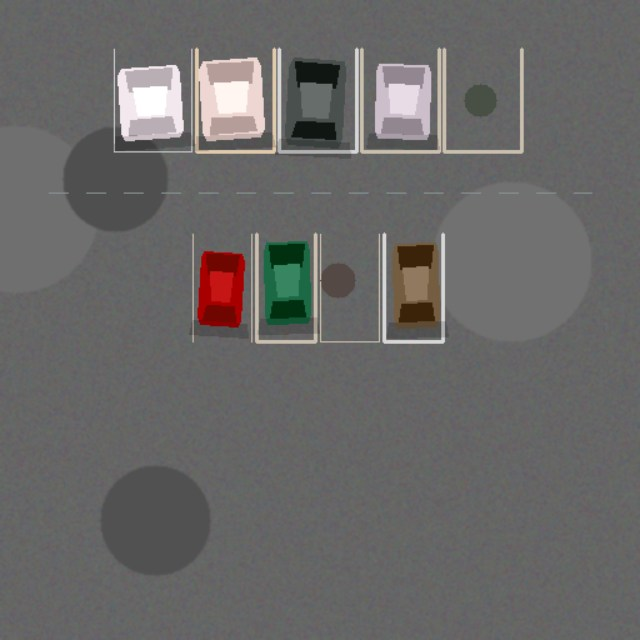space-empty: (444, 49, 521, 151), (320, 234, 379, 341)
space-occupied: (196, 49, 274, 151), (361, 49, 439, 151), (114, 49, 191, 151), (279, 49, 356, 151), (256, 234, 315, 341), (384, 234, 443, 341), (193, 234, 251, 341)
